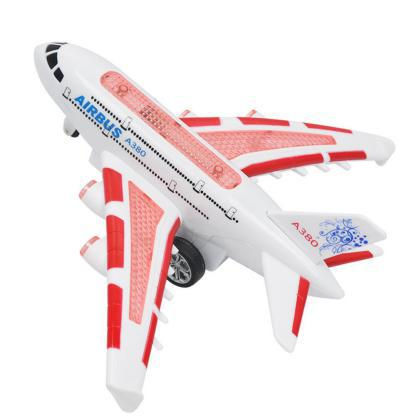CIV_Plane: (30, 38, 394, 412)
